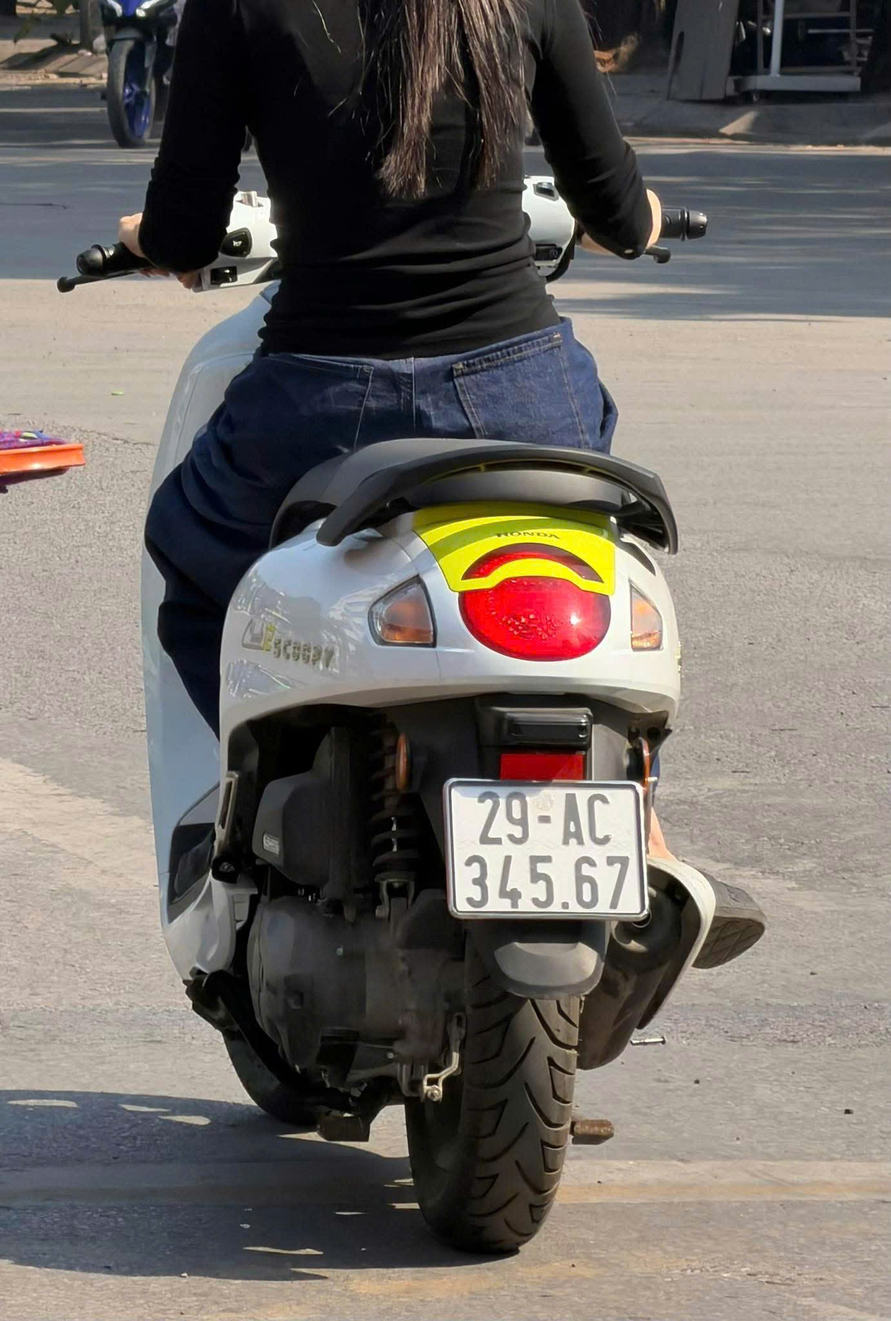bien_so: (438, 759, 663, 936)
